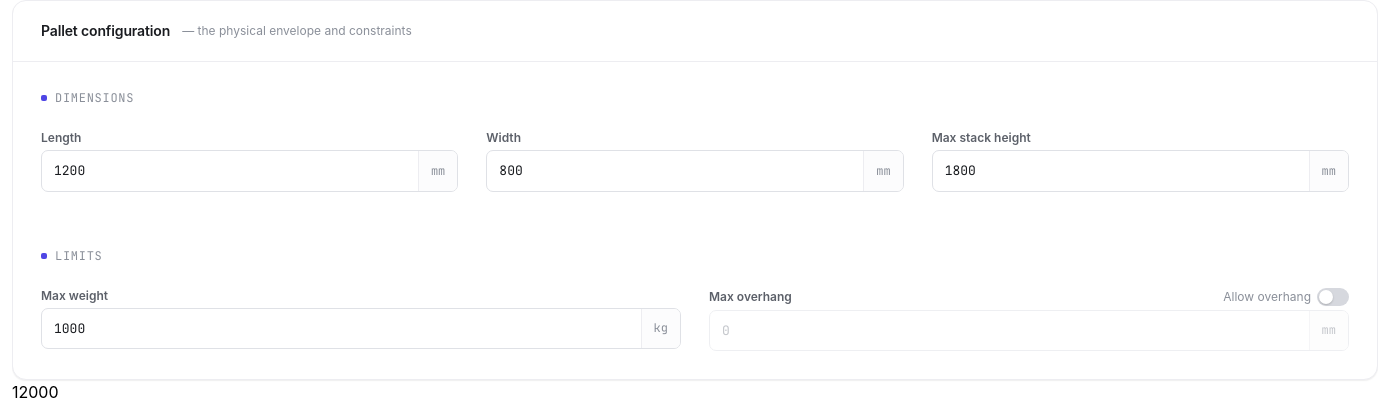
Test: PalletCard — Allow-overhang switch gates Max overhang (#3) › toggling ON enables the overhang input (restores a positive value)
Click the switch named "Allow overhang" at (1333, 296), box [1317,288,1349,306]
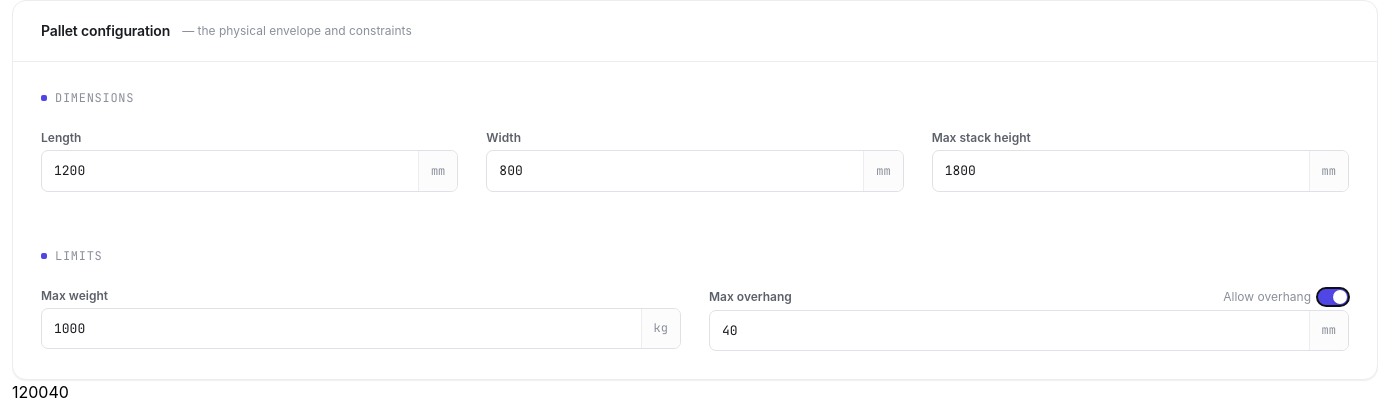
Result: the number field labelled "Max overhang" is enabled at [710,310,1309,350]
Result: the text with test id "probe-maxOverhang" reads "40" at [48,382,69,402]
